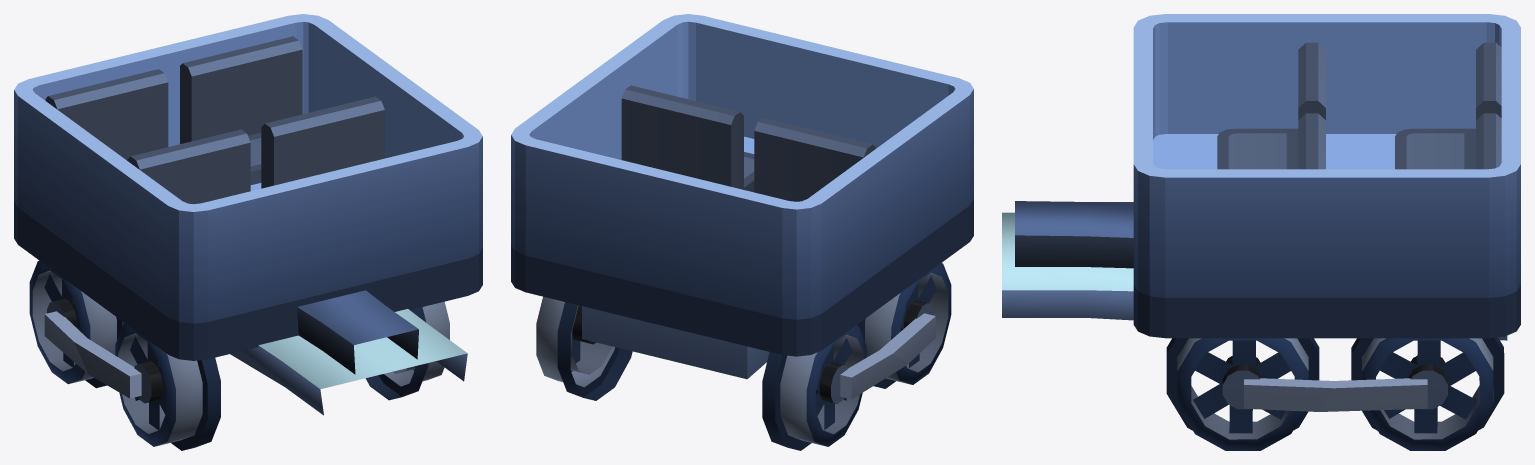
Rendered from train-PassengerVagon.fbx.
3 views of the same model, side by side, from view 1: azimuth 30°, elevation 25°; view 2: azimuth 150°, elevation 25°; view 3: azimuth 270°, elevation 25° (orthographic). The views are drawn at different scales.
Visible parts, largest first — view 1: Passenger-vagon.002; view 2: Passenger-vagon.002; view 3: Passenger-vagon.002.
Part boxes in pixels (x1,y1,x2,y2): Passenger-vagon.002: [14, 14, 482, 450]; Passenger-vagon.002: [511, 14, 973, 450]; Passenger-vagon.002: [1002, 14, 1520, 450].
Size of the model in its own units: 171 by 141 by 224.
